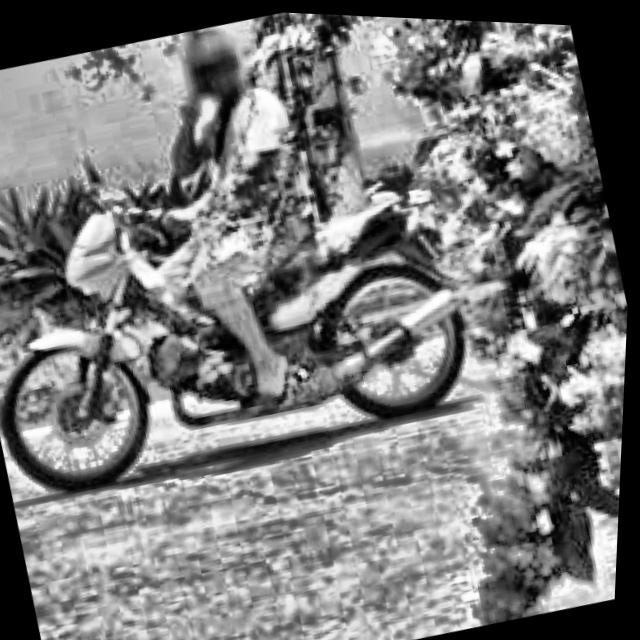motorcycle: (0, 106, 532, 519)
